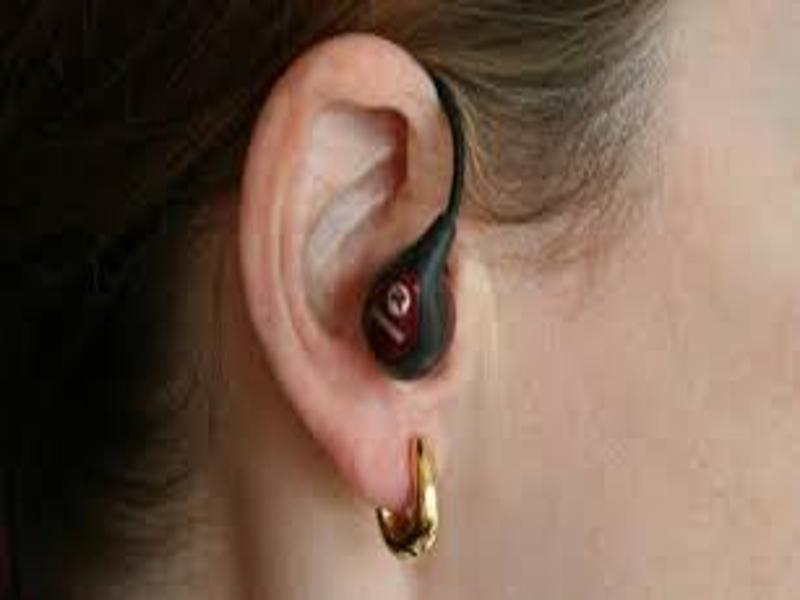headphone: (363, 212, 463, 379)
